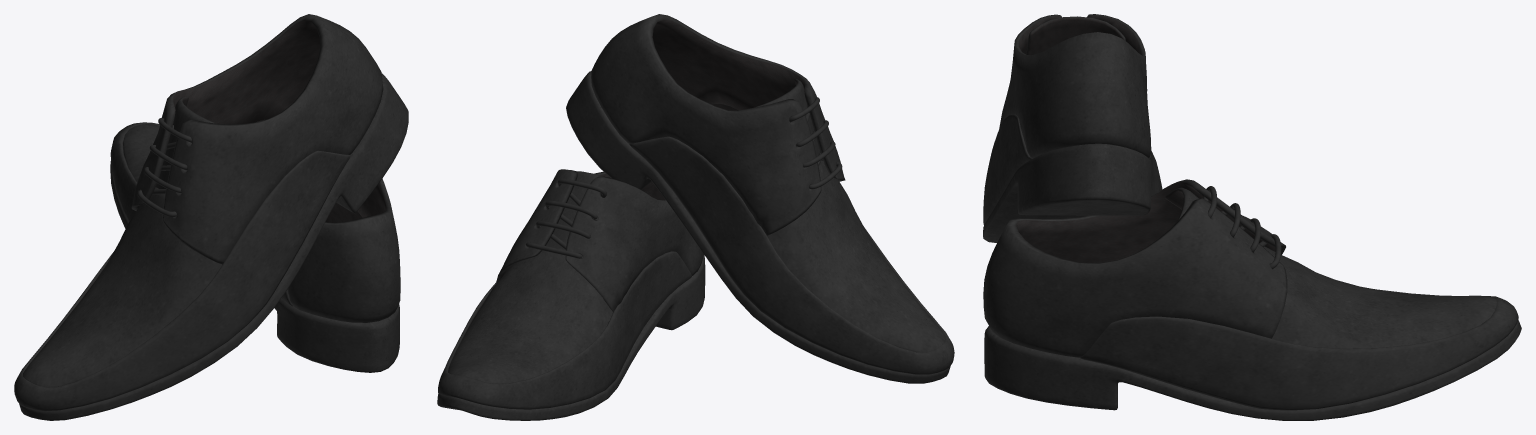
Rendered from leather_shoes.glb.
3 renders of one model, left to right at view 1: azimuth 30°, elevation 25°; view 2: azimuth 150°, elevation 25°; view 3: azimuth 270°, elevation 25°, orthographic. The views are drawn at different scales.
Visible parts, largest first — view 1: Object_3, Object_5, Object_6; view 2: Object_3, Object_4, Object_6, Object_5; view 3: Object_3, Object_6, Object_4.
Part boxes in pixels (box(x1,y1,x2,y2)): Object_3: box(14, 14, 408, 420); Object_5: box(137, 118, 192, 216); Object_6: box(156, 96, 216, 188); Object_3: box(437, 14, 954, 420); Object_4: box(526, 179, 606, 258); Object_6: box(546, 79, 822, 256); Object_5: box(789, 97, 842, 189); Object_3: box(983, 14, 1521, 420); Object_6: box(1026, 16, 1198, 220); Object_4: box(1203, 186, 1281, 268).
Size of what is drawn, in the model's own units: 3.49 by 2.67 by 3.81.
Materials: 1 (1 with a texture image).
